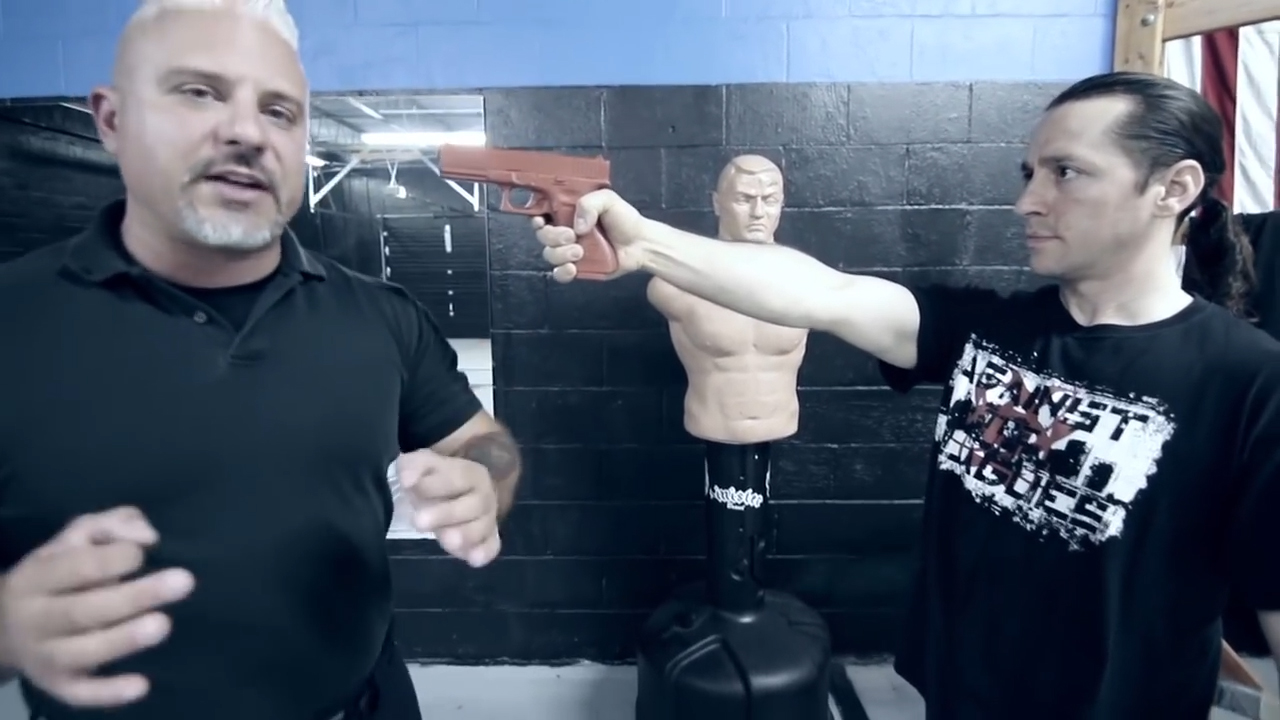pistol: (436, 141, 623, 283)
